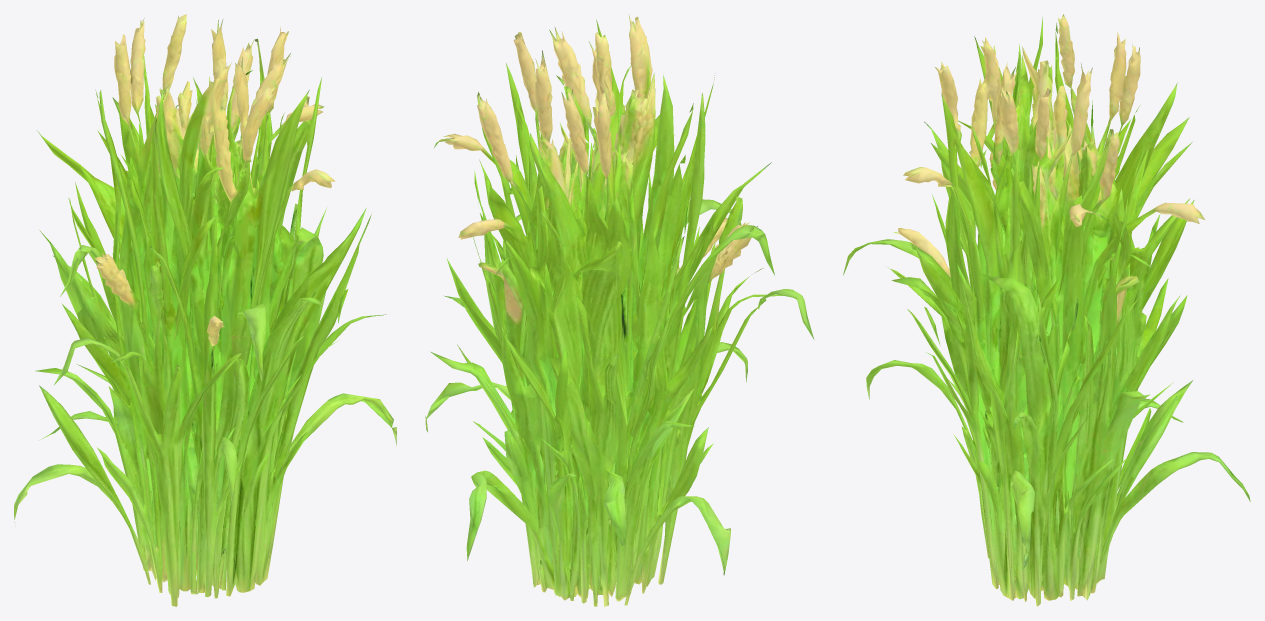
Rendered from rice-growing.glb.
3 renders of one model, left to right at view 1: azimuth 30°, elevation 25°; view 2: azimuth 150°, elevation 25°; view 3: azimuth 270°, elevation 25°, orthographic.
Visible parts, largest first — view 1: Mesh_0; view 2: Mesh_0; view 3: Mesh_0.
Part boxes in pixels (x1=…): Mesh_0: x1=14, y1=14, x2=396, y2=606; Mesh_0: x1=425, y1=14, x2=814, y2=606; Mesh_0: x1=843, y1=14, x2=1250, y2=606.
Size of the model in its own units: 0.272 by 0.4 by 0.2633.
Materials: 1 (1 with a texture image).
